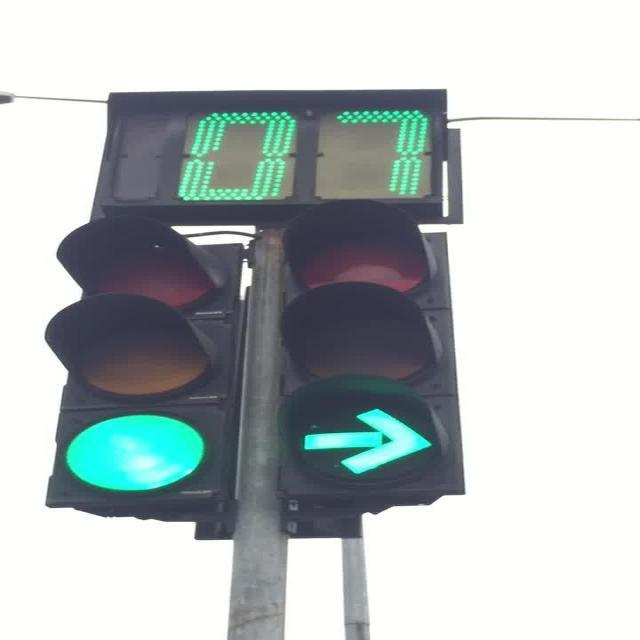green_light: (38, 214, 242, 506), (278, 199, 462, 500)
